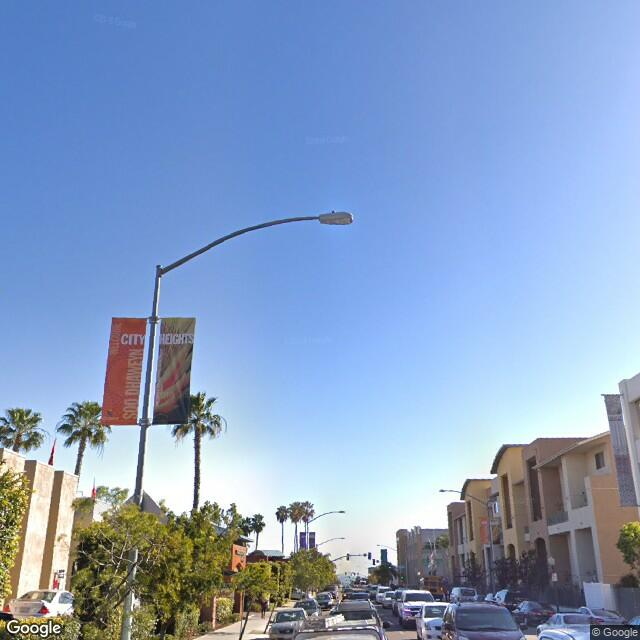light: (317, 205, 355, 230)
